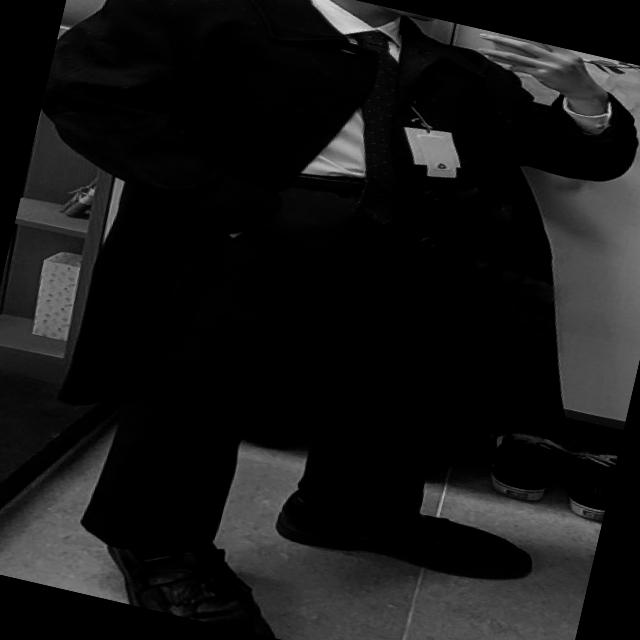coat: (0, 0, 640, 512)
slacks: (75, 132, 496, 608)
